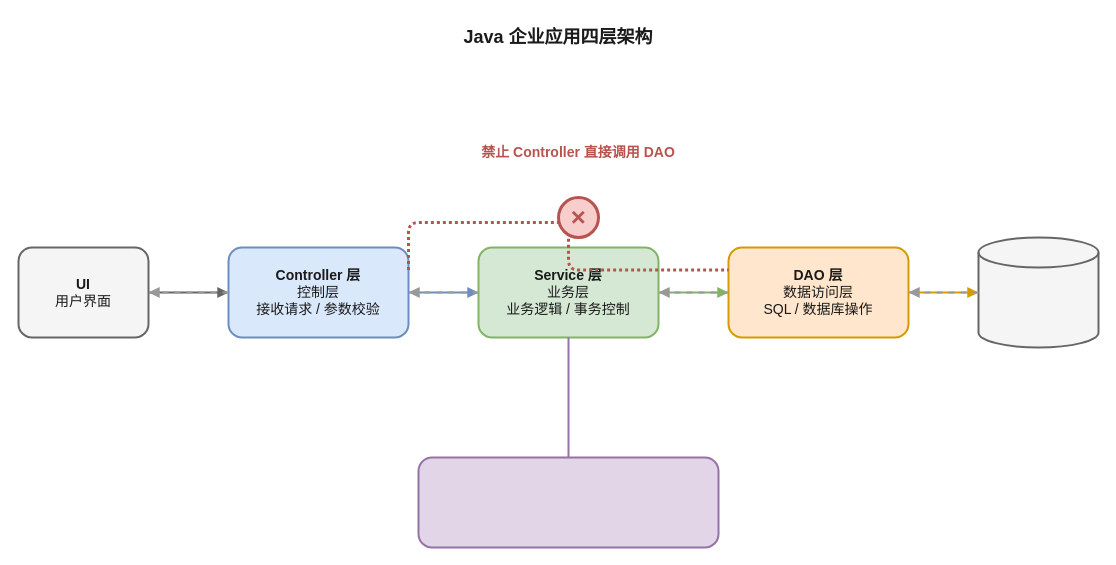
Image size: 1116x565. Some labels were removed from this diagram. The centre of each missing label's shape, as x and y in pixels:
"DB 数据库" belongs at point 1038,292.
"Model 层 实体 / DTO / VO 各层间数据载体" belongs at point 568,502.
